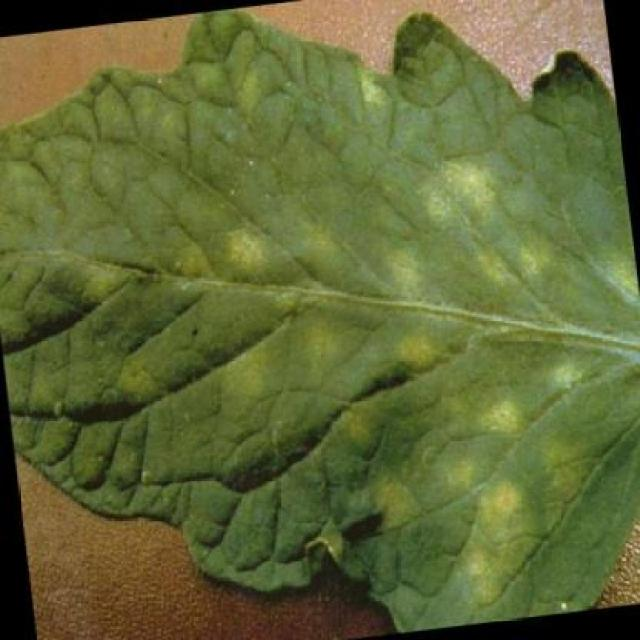Leaf Mold: (96, 6, 638, 639)
